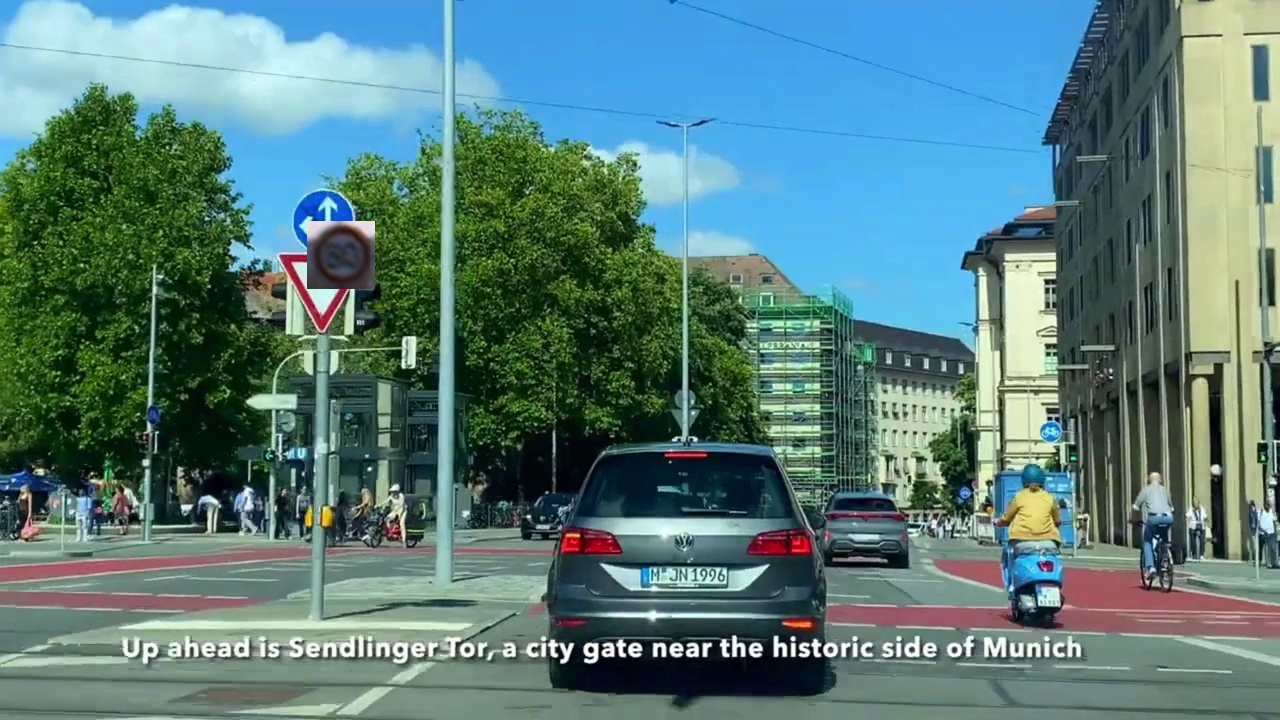Speed 80: (307, 221, 375, 289)
